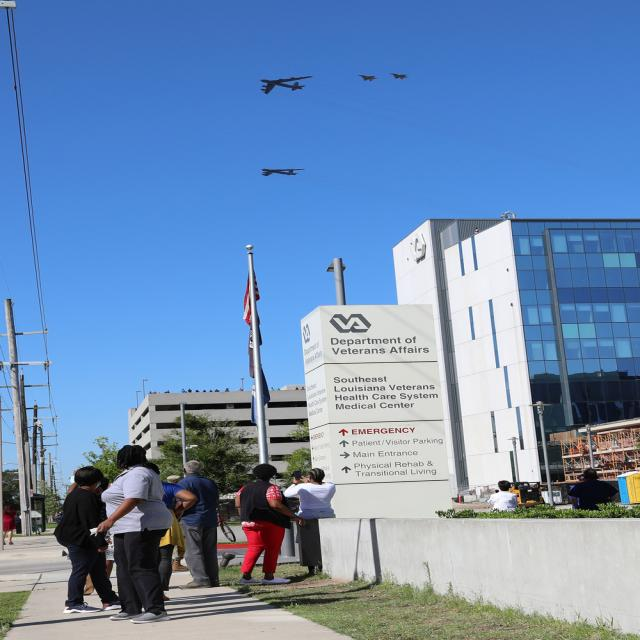MIL_Plane: (48, 76, 103, 94), (49, 168, 94, 177), (357, 74, 378, 82), (388, 72, 409, 80)
